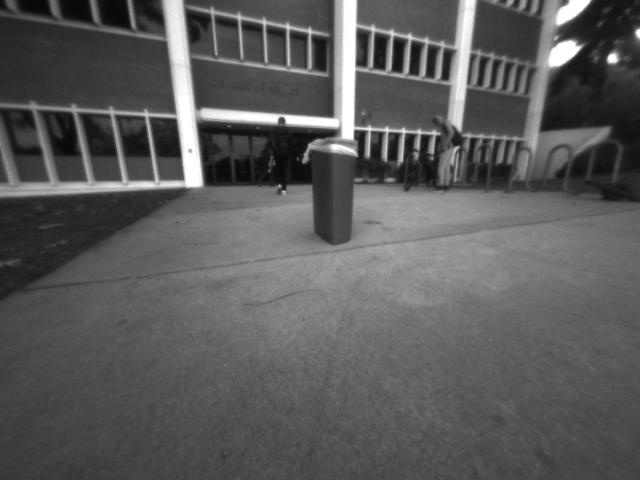trashcan_open: (300, 133, 362, 249)
